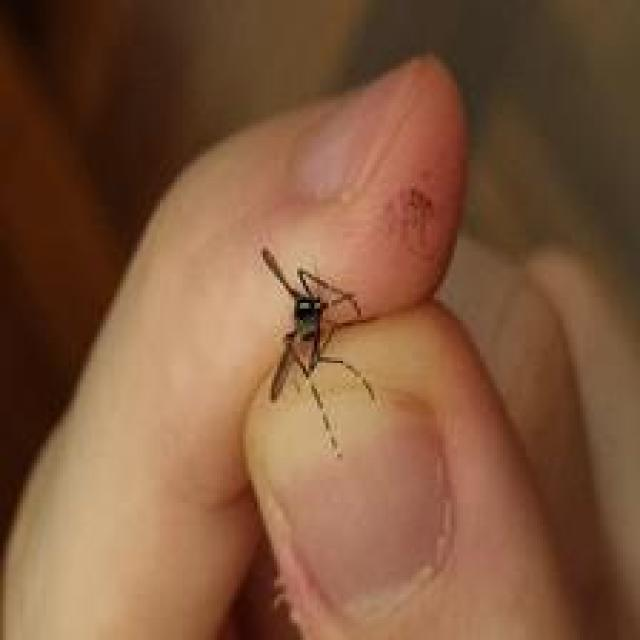Aedes albopictus: (258, 246, 378, 460)
